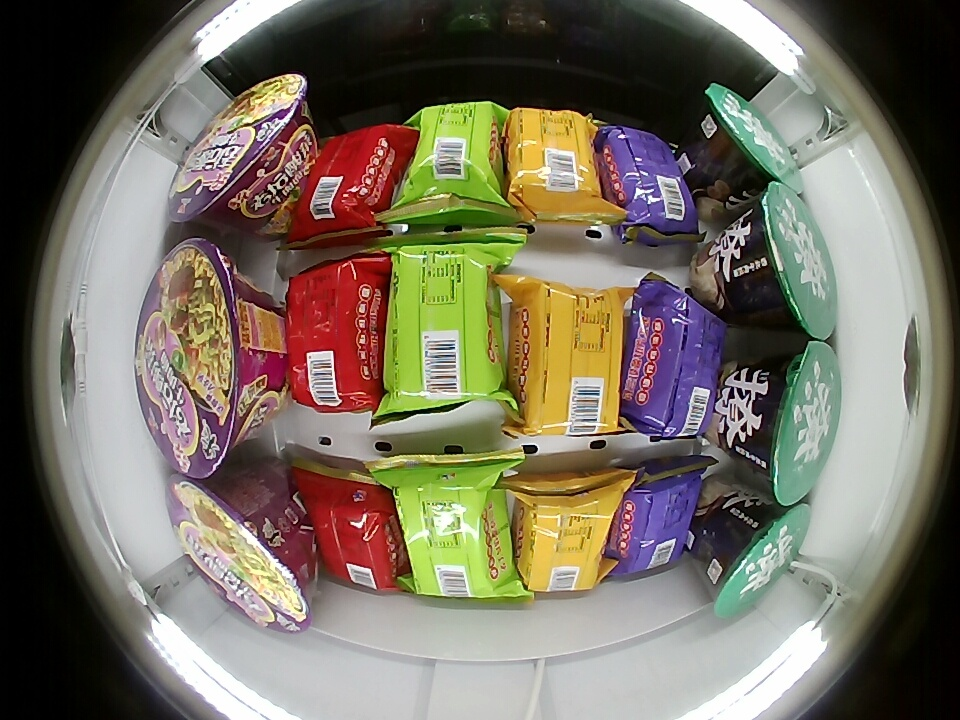kaomo_gali: (509, 283, 623, 435), (516, 471, 623, 592), (506, 107, 602, 226)
kaomo_jiaoyan: (623, 279, 725, 438), (597, 127, 698, 246), (610, 467, 700, 573)
kaomo_shaokao: (288, 451, 408, 591), (286, 256, 387, 414), (286, 123, 412, 247)
kaomo_xiangcon: (383, 238, 504, 410), (389, 456, 515, 601), (745, 342, 839, 506), (397, 101, 506, 223)
laotansuancai: (135, 238, 277, 477), (169, 472, 315, 634), (169, 74, 309, 227)
liaomian: (746, 183, 835, 342), (705, 498, 810, 618), (702, 85, 802, 193)
